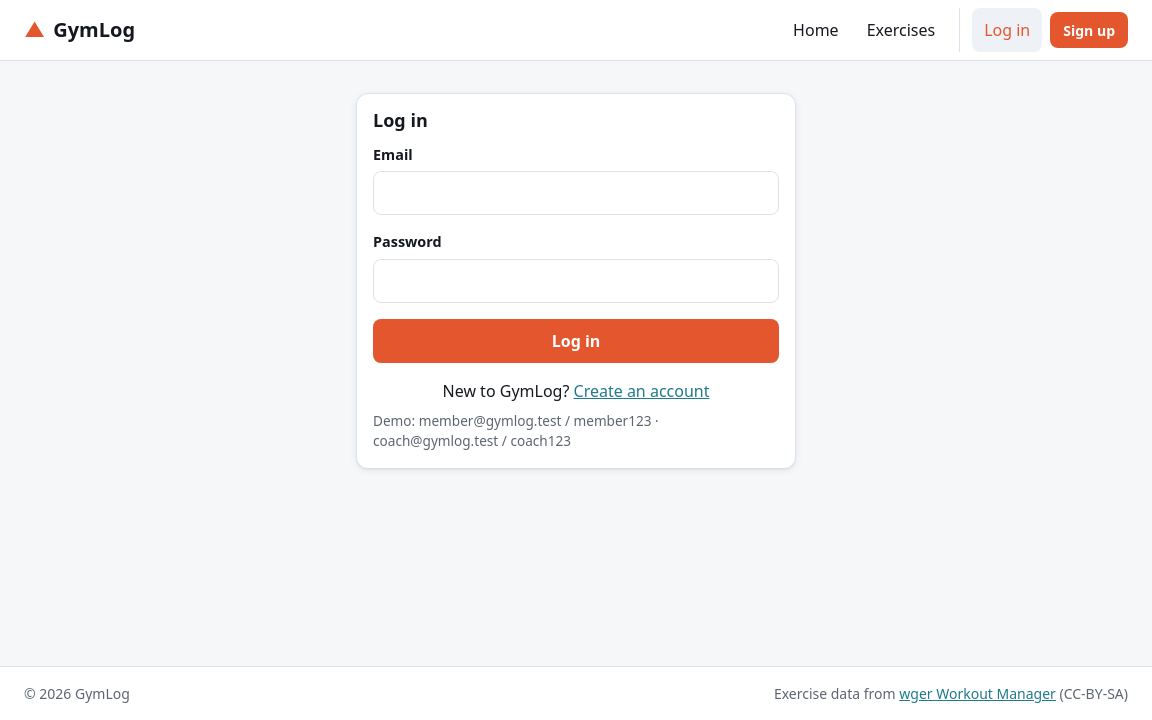
Test case: Login flow › shows an error for bad credentials
The image size is (1152, 720).
Type "member@gymlog.test" into the field labelled "Email" at point(576, 193), box [373,171,779,215]
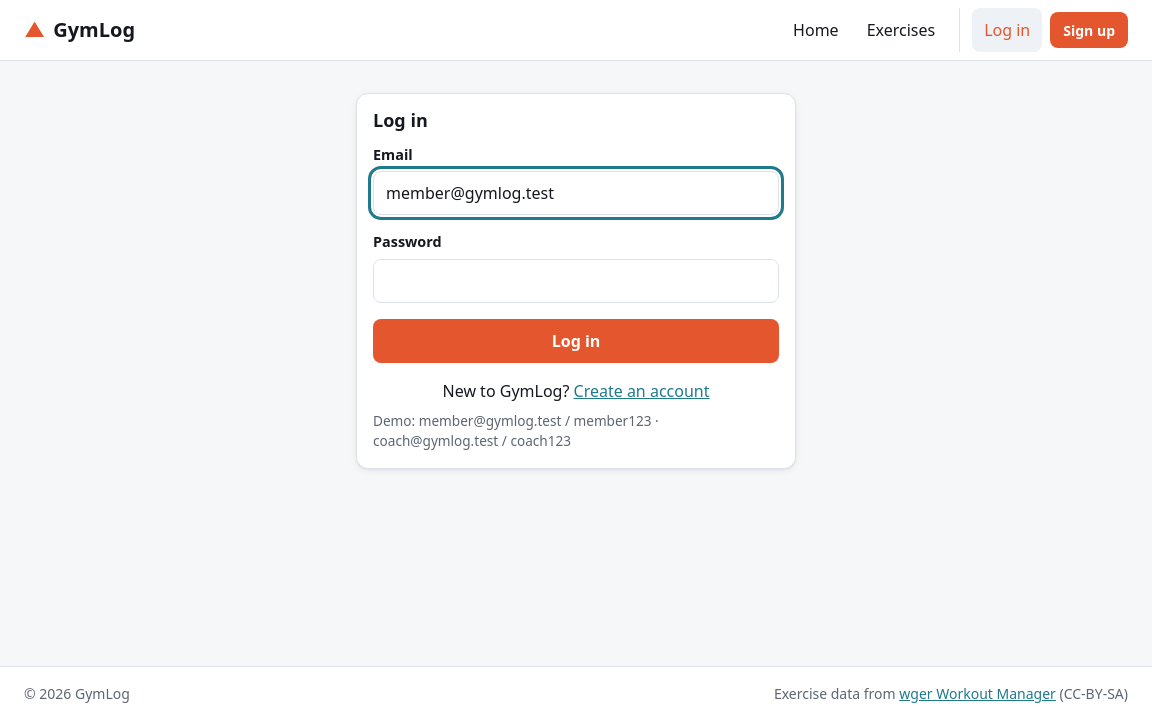
Type "wrong" into the password field labelled "Password" at point(576, 281), box [373,259,779,303]
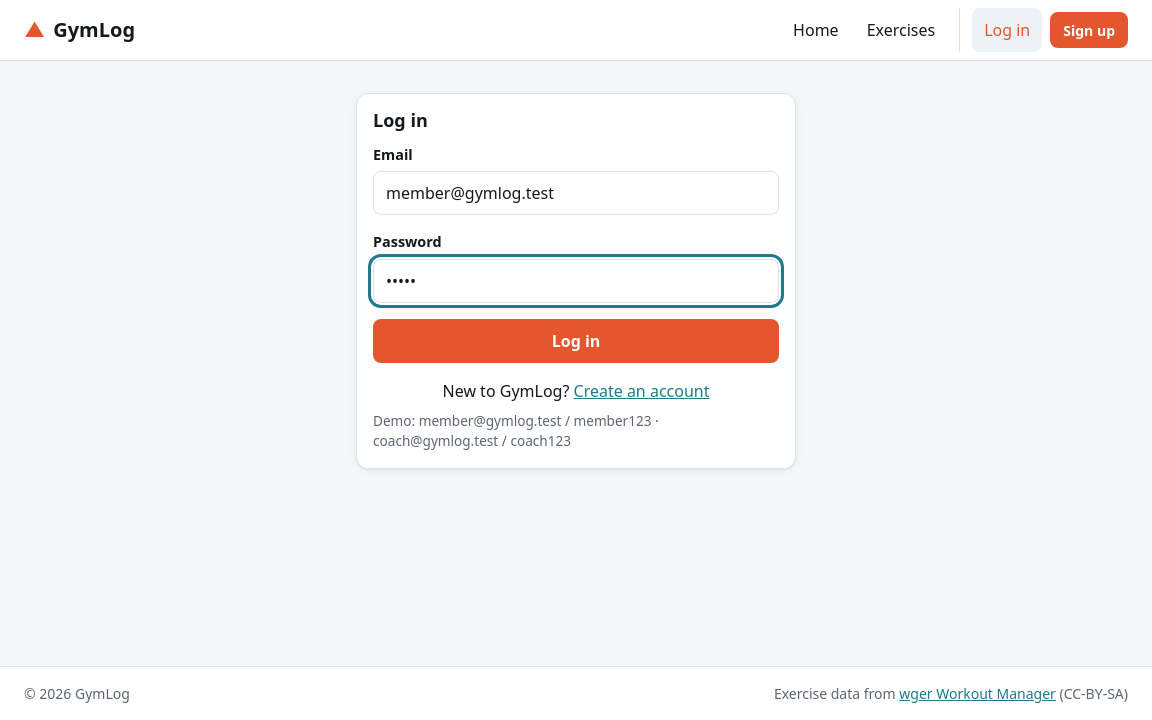
Click the button "Log in" at point(576, 341), box [373,319,779,363]
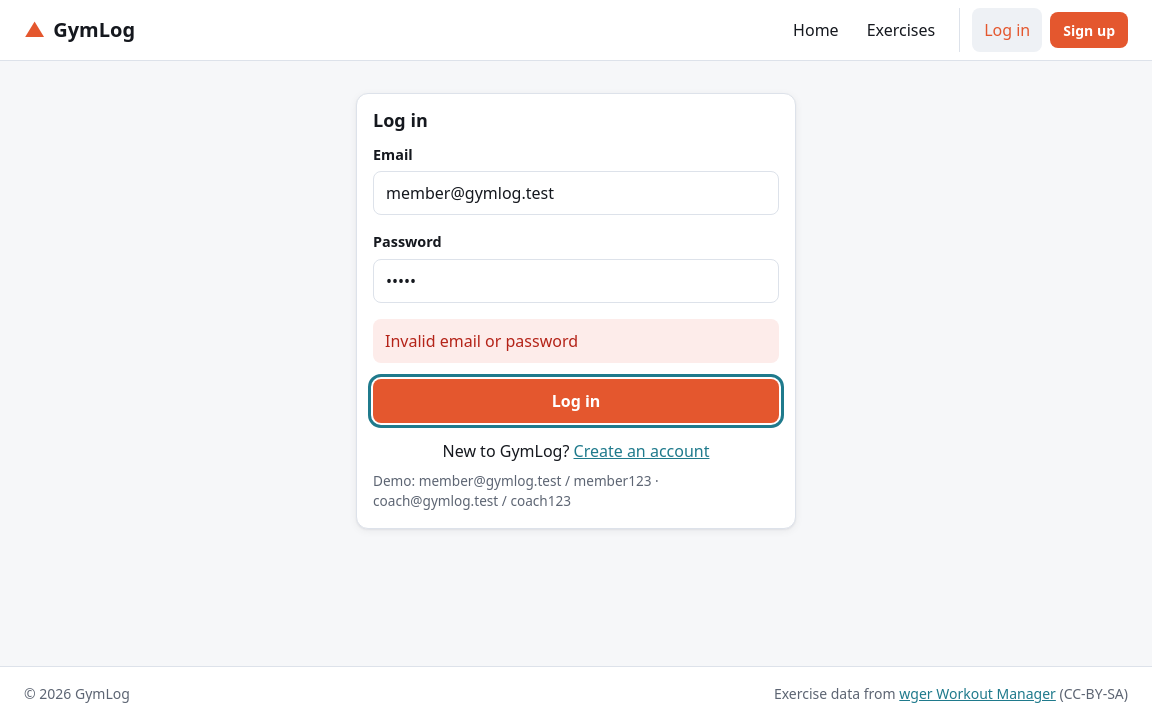
Expected: the message reads "Invalid email or password", [385,330,578,352]
